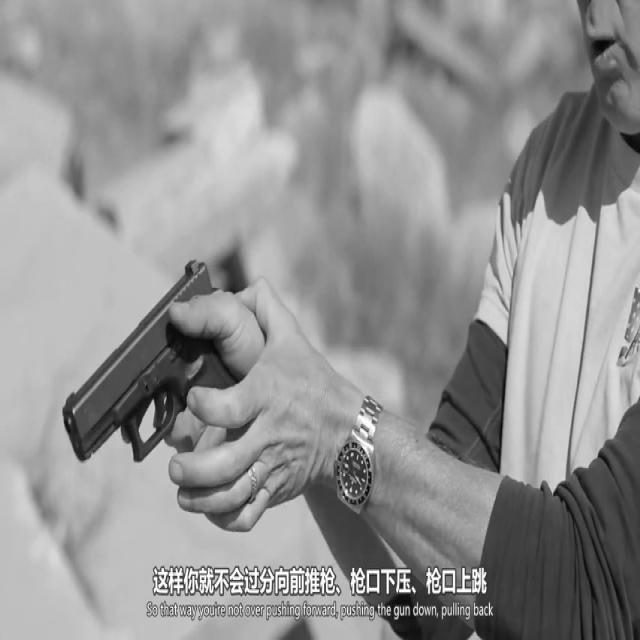Hand-Gun: (59, 193, 299, 550)
